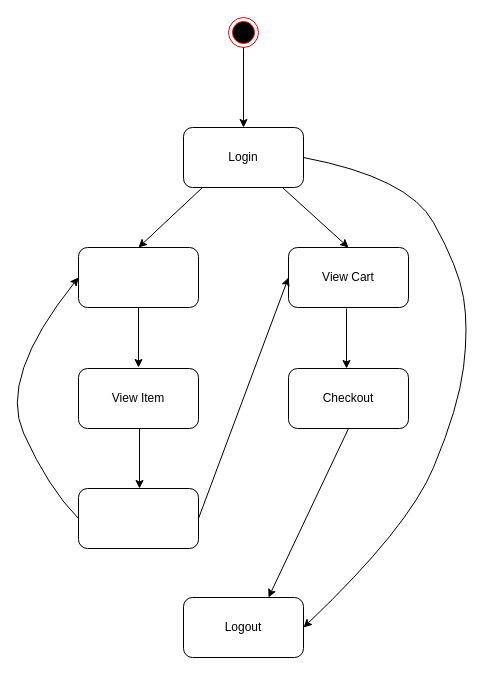
The diagram is 484 pixels wide and 675 high, and some of its shapes have lost their labels. Here are the shapes that lost their labels. From the top down, the box of each, then its label:
(78, 246, 198, 308): Search
(78, 488, 198, 548): Add Item to Cart
